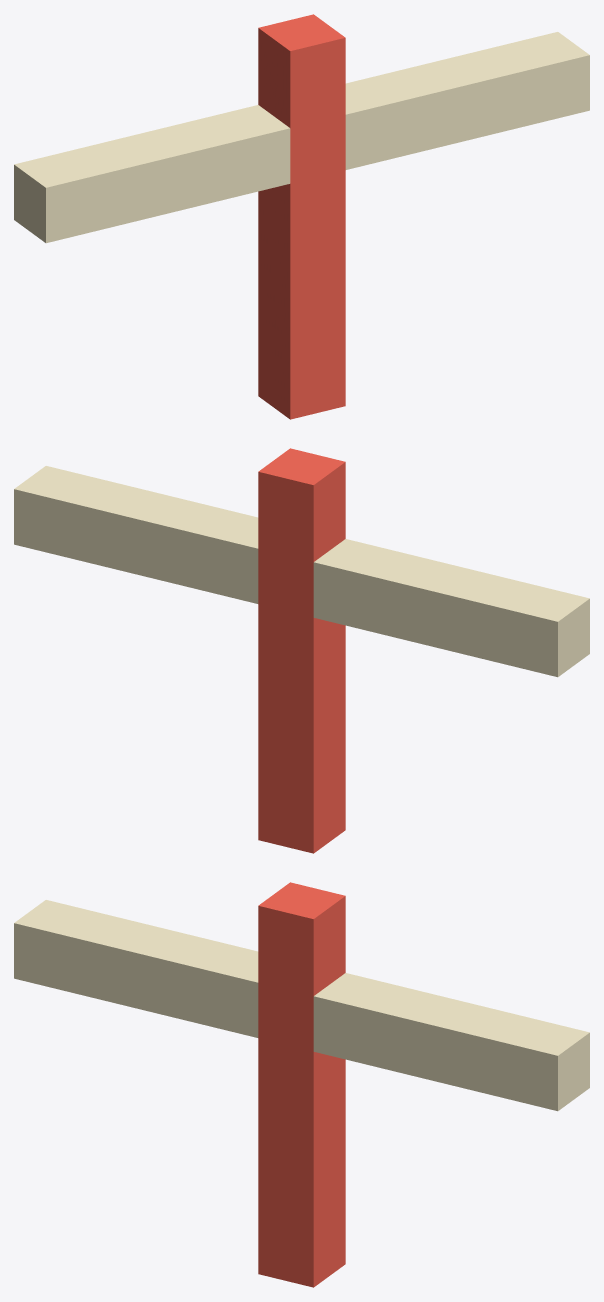
File: FenceUnitRed.fbx
The picture shows the model from 3 angles, top to bottom: view 1: azimuth 30°, elevation 25°; view 2: azimuth 150°, elevation 25°; view 3: azimuth 330°, elevation 25°; orthographic projection.
Parts seen in each view (by area): view 1: FenceUnitRed; view 2: FenceUnitRed; view 3: FenceUnitRed.
Boxes of the visible parts, bbox=[...] form: FenceUnitRed: bbox=[14, 14, 589, 419]; FenceUnitRed: bbox=[14, 448, 589, 853]; FenceUnitRed: bbox=[14, 882, 589, 1287].
Bounding box in the file's own units: 171 × 111 × 17.39.
